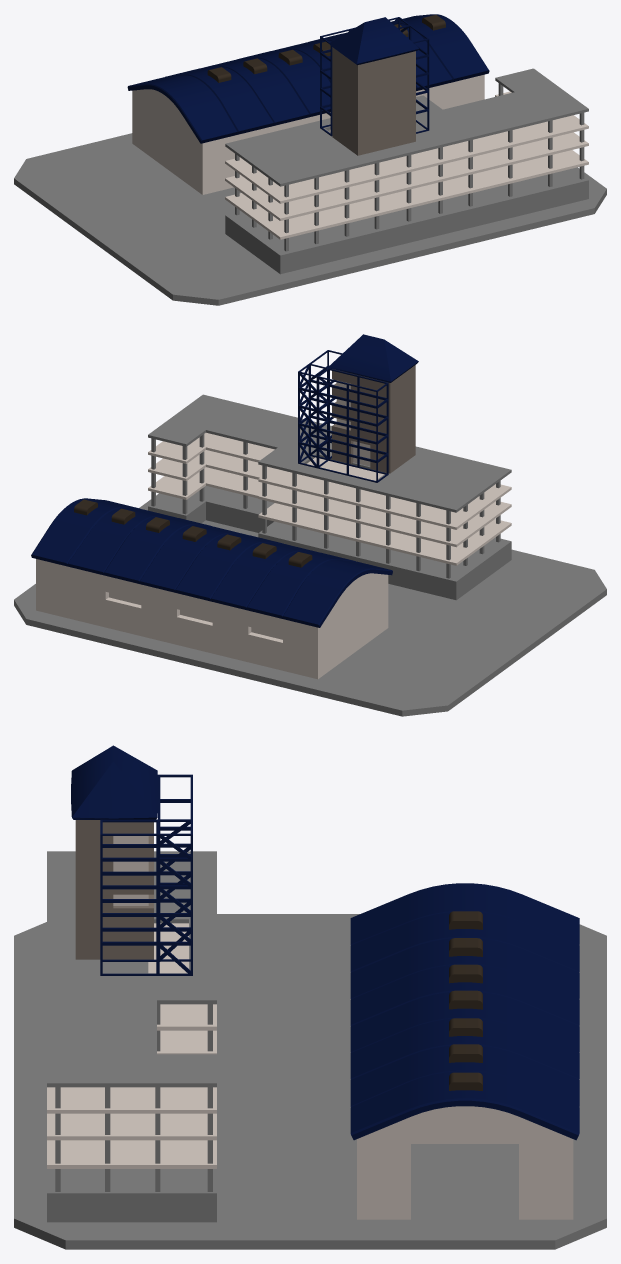
3 views of the same model, one above another, from view 1: azimuth 30°, elevation 25°; view 2: azimuth 150°, elevation 25°; view 3: azimuth 270°, elevation 25° (orthographic). The views are drawn at different scales.
Visible parts, largest first — view 1: polySurface1177; view 2: polySurface1177; view 3: polySurface1177.
Part boxes in pixels (x1,y1,x2,y2): polySurface1177: [14, 14, 606, 305]; polySurface1177: [14, 334, 606, 716]; polySurface1177: [14, 745, 606, 1249].
Bounding box in the file's own units: 328 × 252 × 156.
